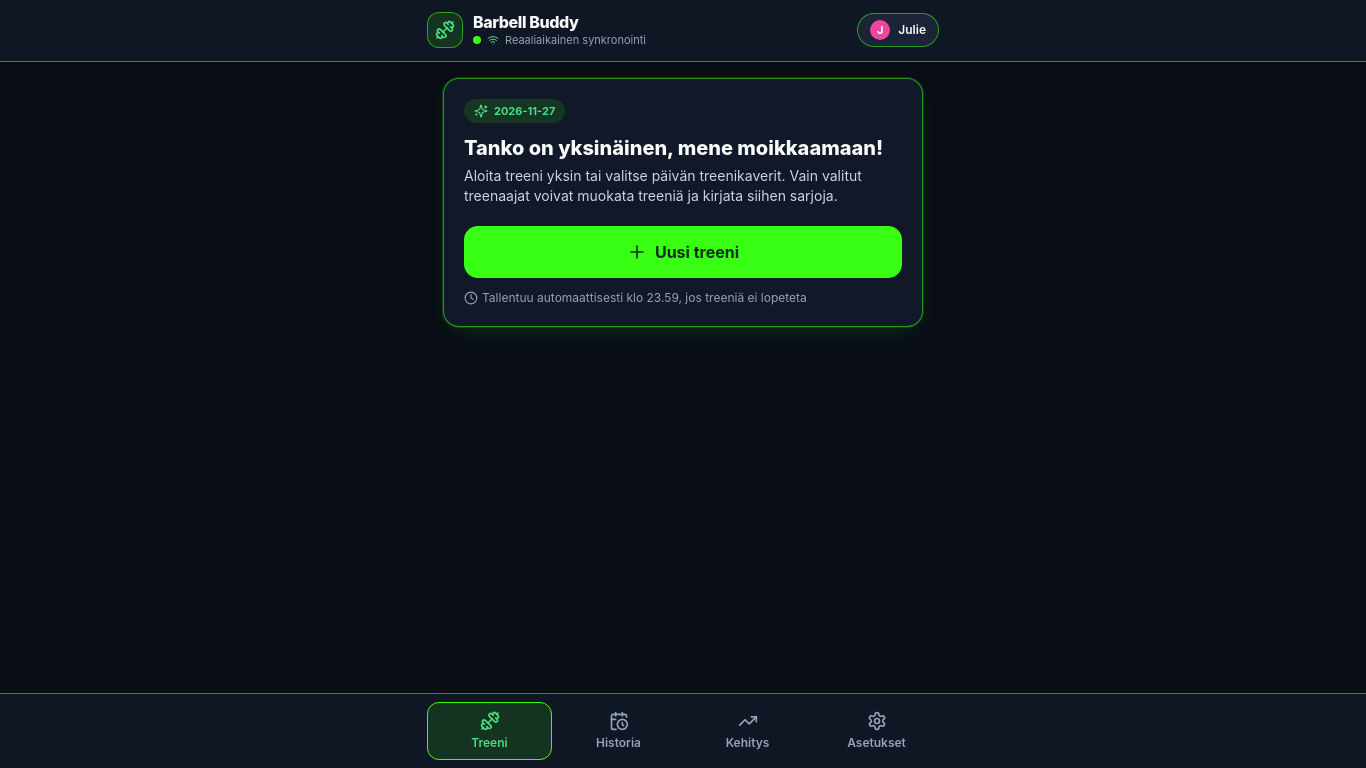
Test: Barbell Buddy PWA (Suomi) › tracks multi-user progression charts and personal records in the Kehitys tab
This screenshot has width=1366, height=768.
Click the tab "Kehitys" at coordinates (748, 731), box [685,702,810,760]
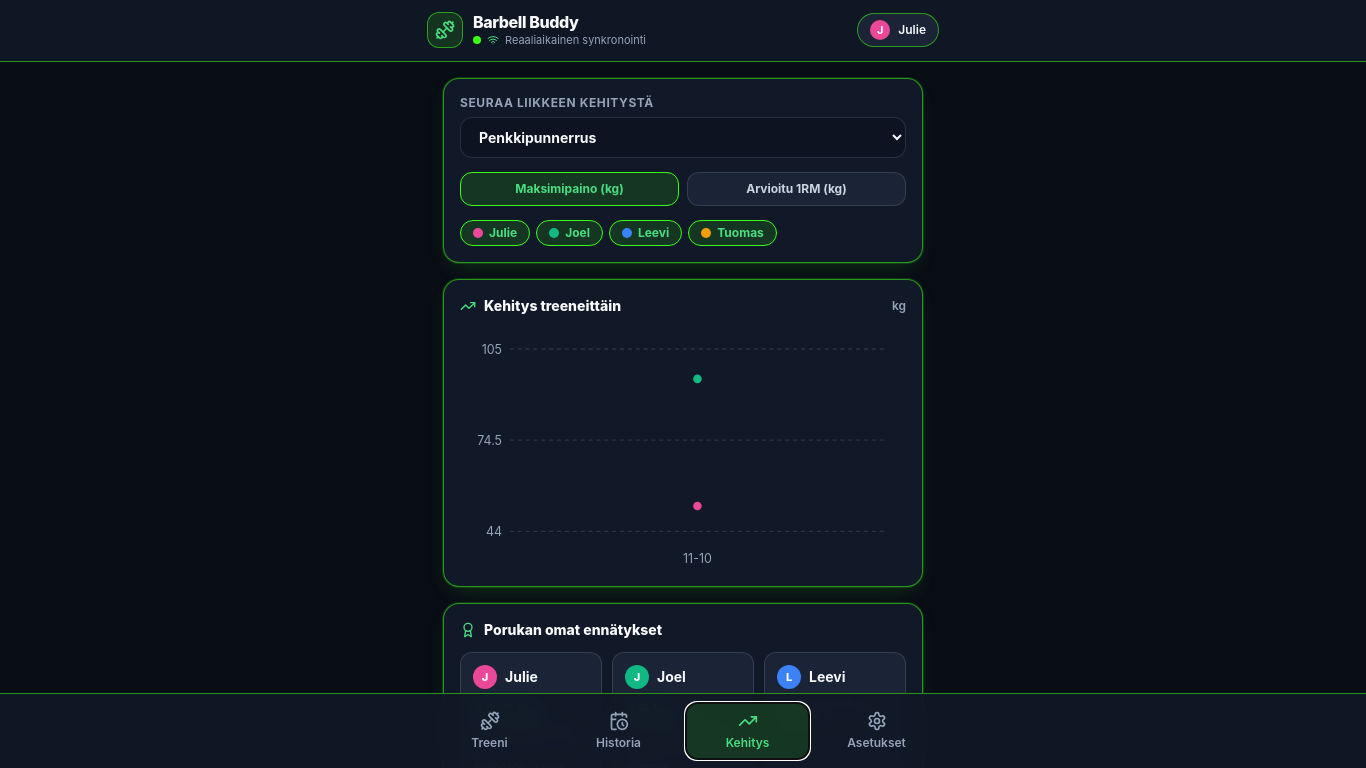
Expected: the text "95 kg" is shown, [625,700,674,721]
Now the picture named "Liikkeen Penkkipunnerrus kehityskaavio" is shown, box [460,328,906,570]
Now the text "52.5 kg" is shown, box [473,700,539,721]
